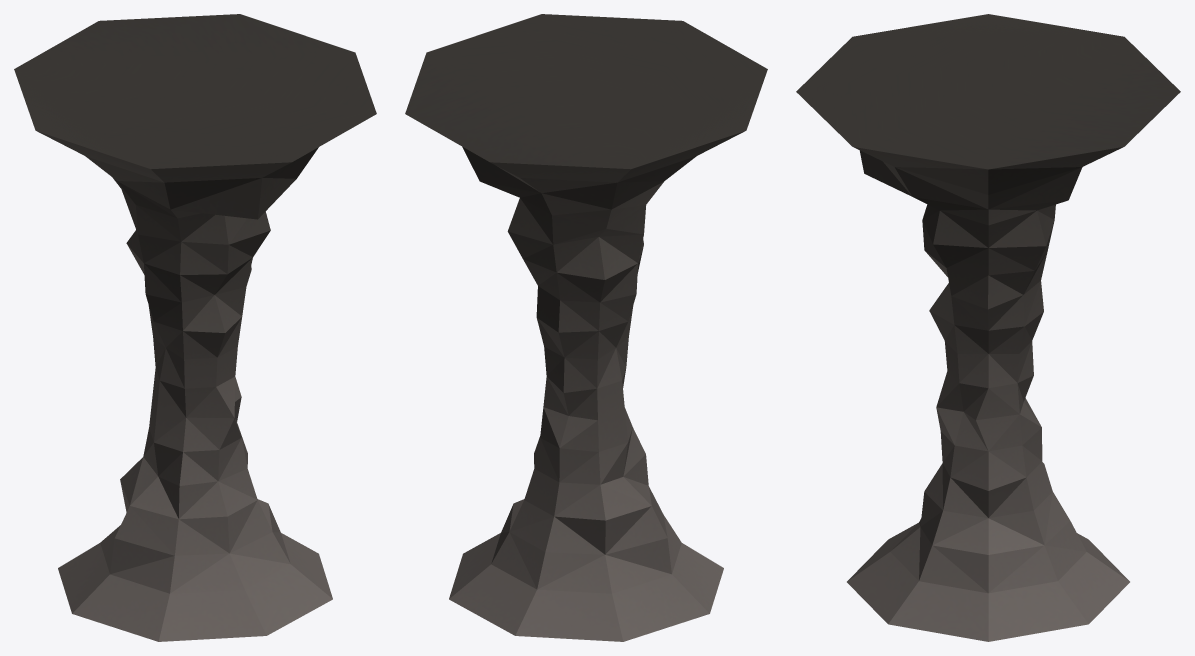
File: Stal_Big_4.fbx
The picture shows the model from 3 angles, left to right: view 1: azimuth 30°, elevation 25°; view 2: azimuth 150°, elevation 25°; view 3: azimuth 270°, elevation 25°; orthographic projection.
Parts seen in each view (by area): view 1: pCylinder35; view 2: pCylinder35; view 3: pCylinder35.
Part boxes in pixels (<box>): pCylinder35: <box>14,14,376,641</box>; pCylinder35: <box>405,14,767,641</box>; pCylinder35: <box>796,14,1180,641</box>.
Size of the model in its own units: 2143 by 3150 by 2241.
1 material, 1 textured.
